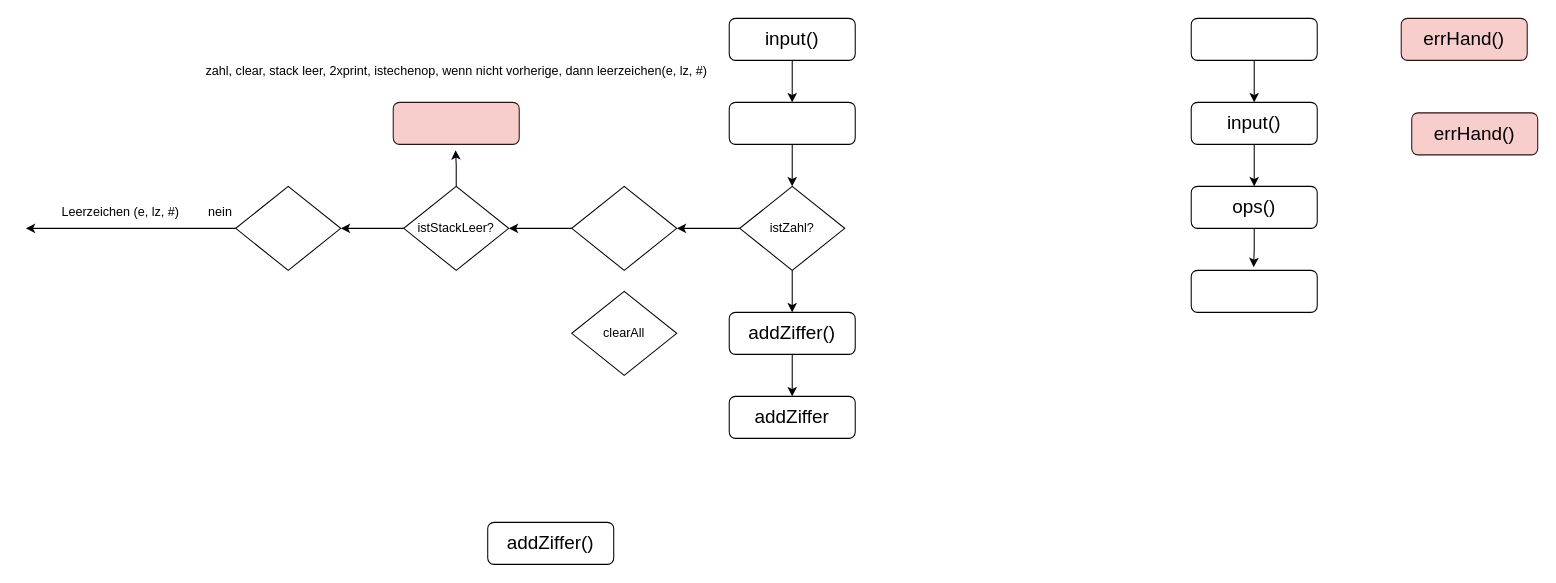
Image size: 1556x583. Some labels were removed from this diagram. Each missing label, with the centre of its shape:
clearGedr?: point (624, 227)
error: point (455, 122)
getZiffer/Key(): point (791, 122)
Init: point (1253, 38)
IstRechenOp?: point (288, 227)
output(): point (1253, 290)
